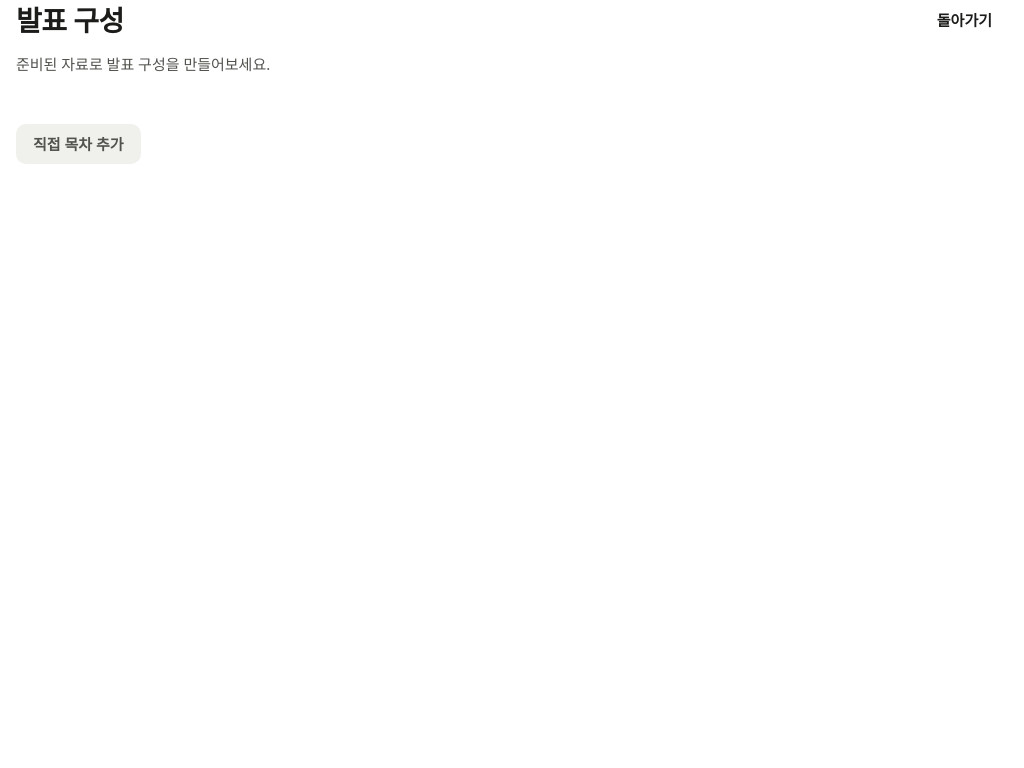
Test: 빈 구성에서 목차를 검증하고 응답을 잃은 저장은 같은 키와 본문으로 재시도한다
Click the button "직접 목차 추가": {"x": 78, "y": 144} x1=16 y1=124 x2=141 y2=164
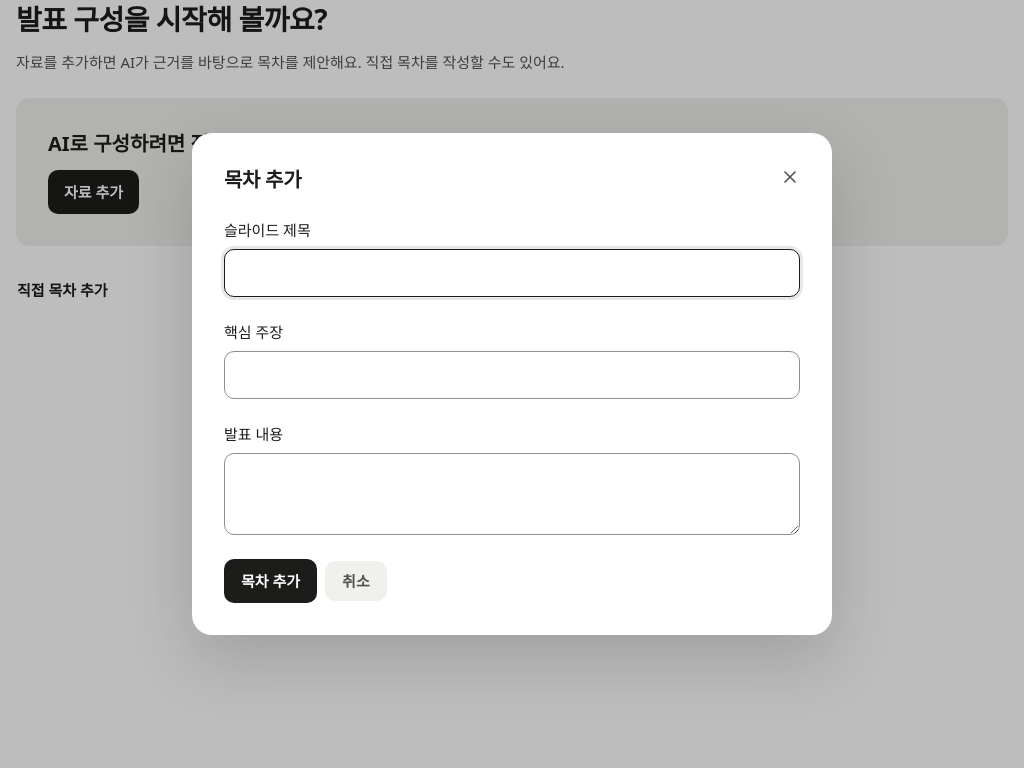
Click the button "목차 추가": {"x": 271, "y": 581} x1=224 y1=559 x2=317 y2=603
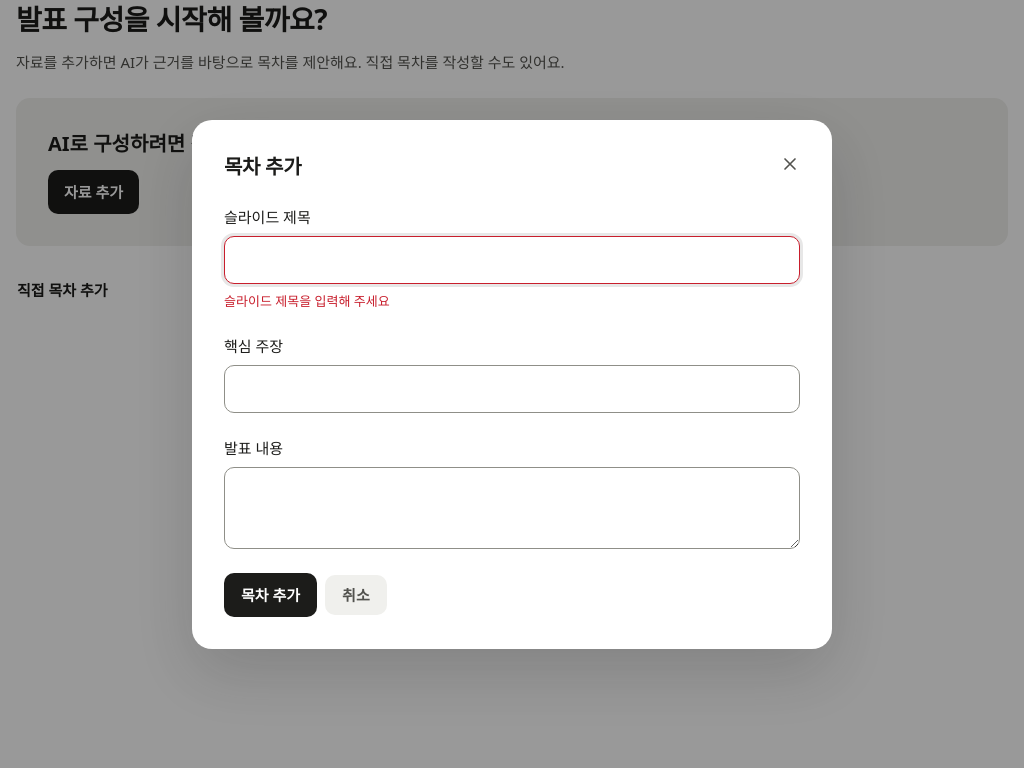
Expected: the text "슬라이드 제목을 입력해 주세요" is shown, x1=224 y1=292 x2=390 y2=310
In the field labelled "슬라이드 제목": {"x": 512, "y": 260} x1=224 y1=236 x2=800 y2=284, type "실행 계획"
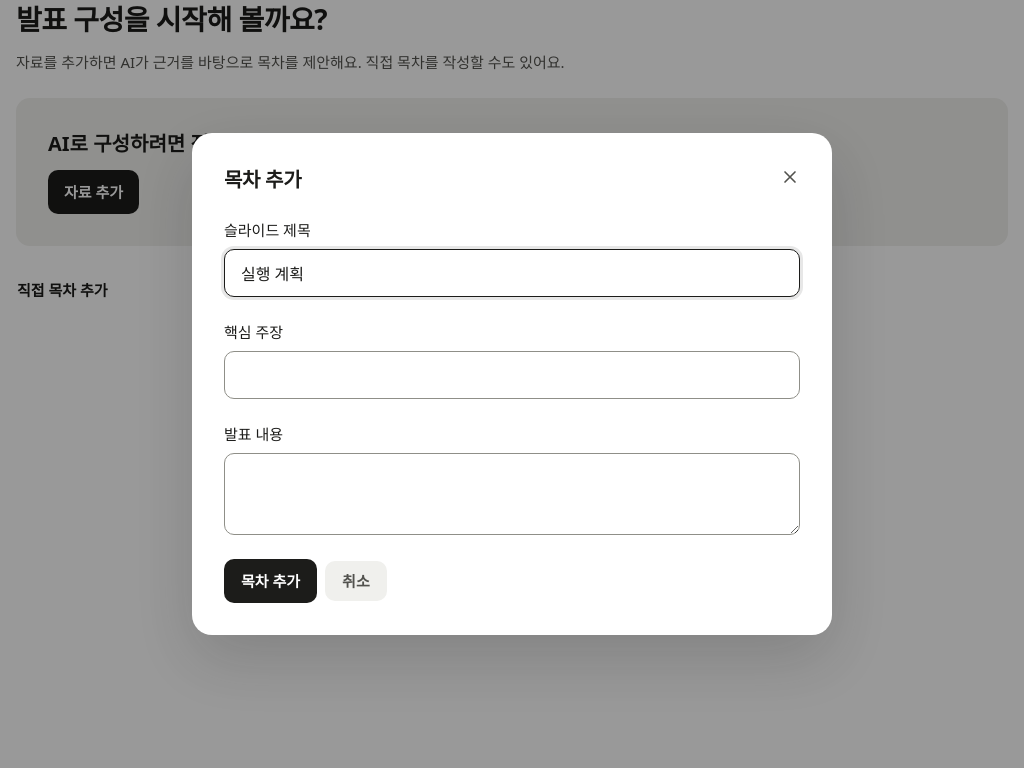
In the field labelled "핵심 주장": {"x": 512, "y": 375} x1=224 y1=351 x2=800 y2=399, type "우선 적용"
In the text box labelled "발표 내용": {"x": 512, "y": 494} x1=224 y1=453 x2=800 y2=535, type "팀원끼리 검토한다"
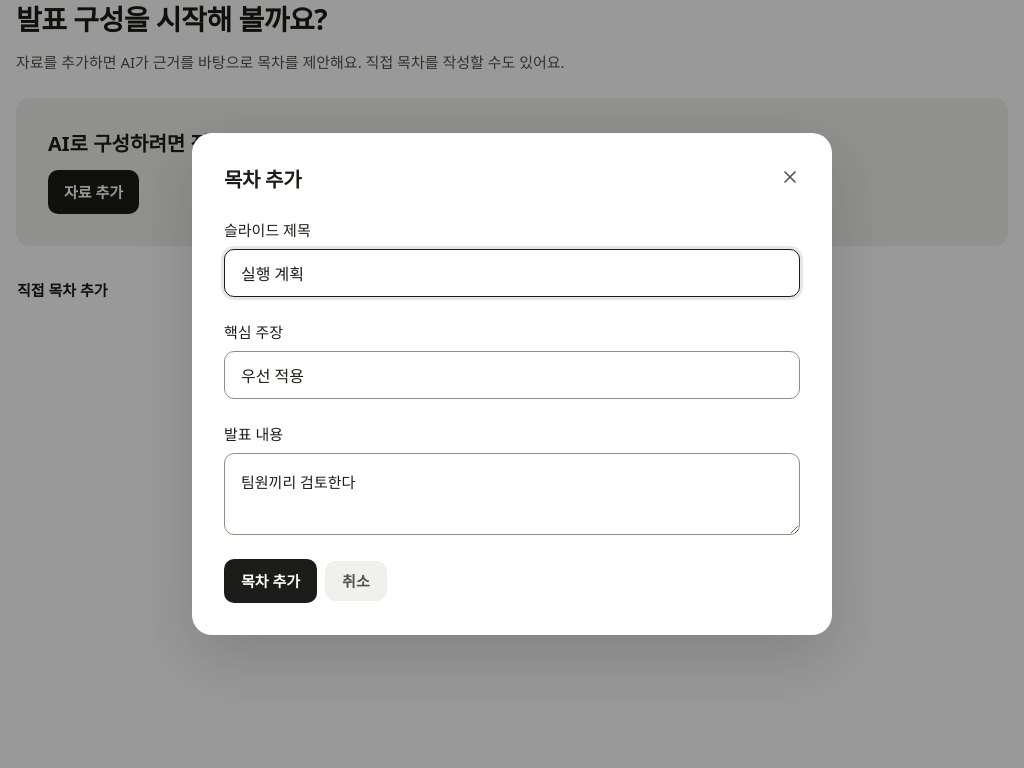
Click the button "목차 추가": {"x": 271, "y": 581} x1=224 y1=559 x2=317 y2=603
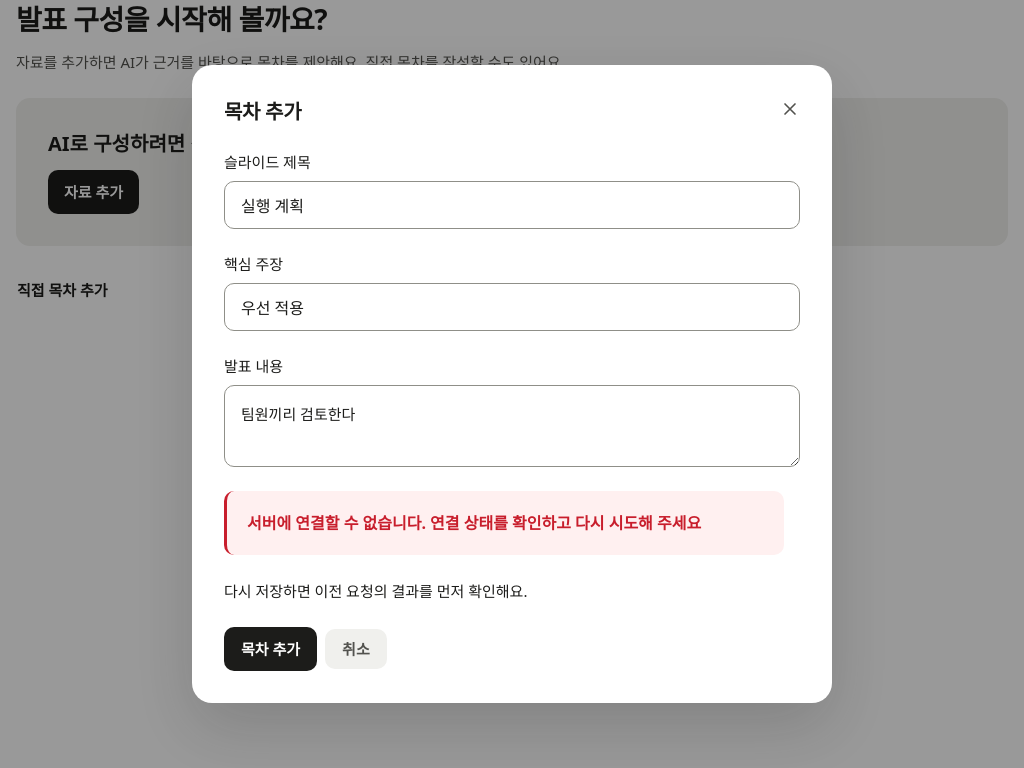
Expected: the text "서버에 연결할 수 없습니다. 연결 상태를 확인하고 다시 시도해 주세요" is shown, x1=247 y1=511 x2=701 y2=535
Click the button "목차 추가": {"x": 271, "y": 649} x1=224 y1=627 x2=317 y2=671
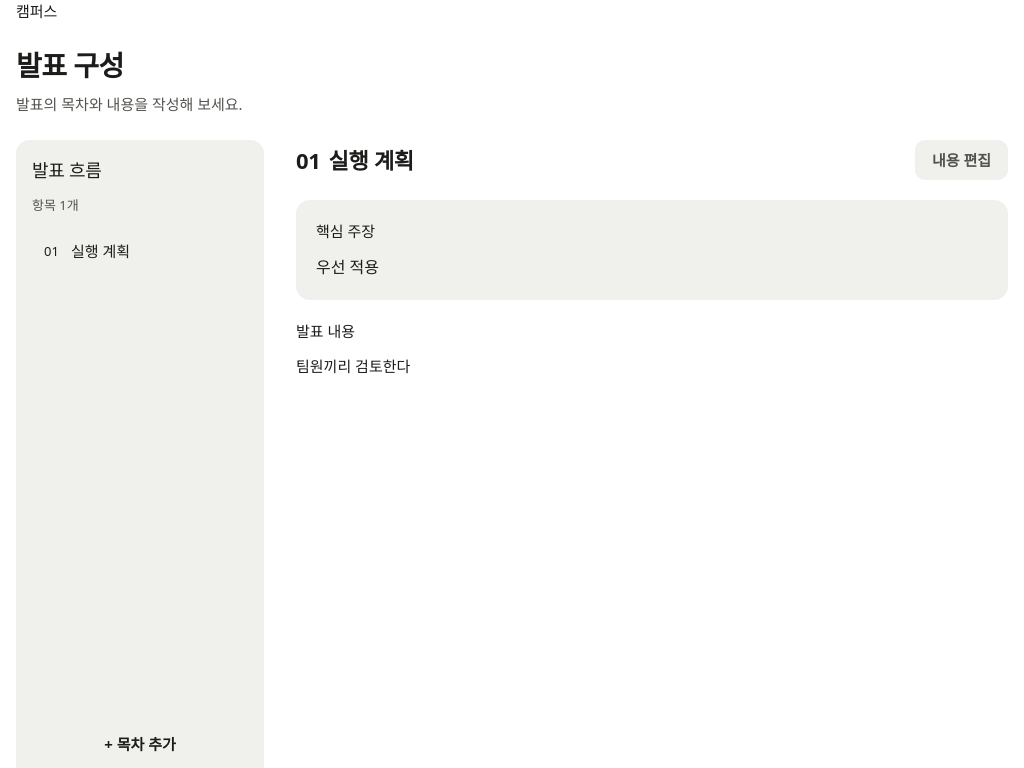
Expected: the heading "01실행 계획" is shown, x1=296 y1=145 x2=414 y2=175
